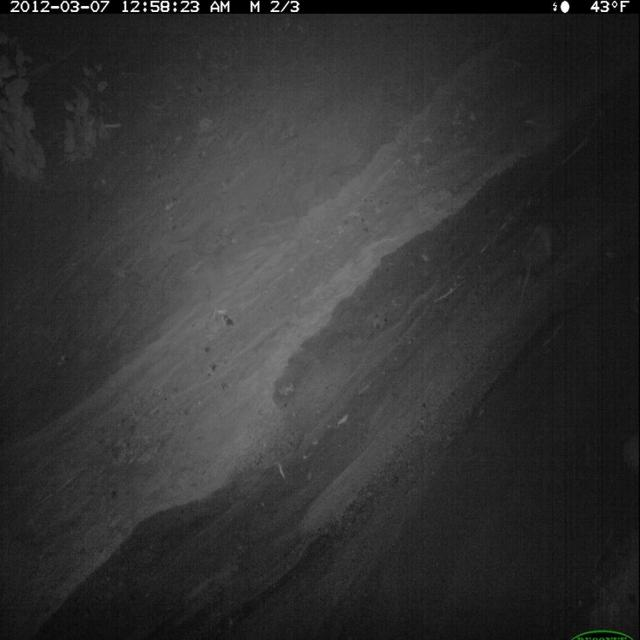opossum: (513, 211, 576, 309)
